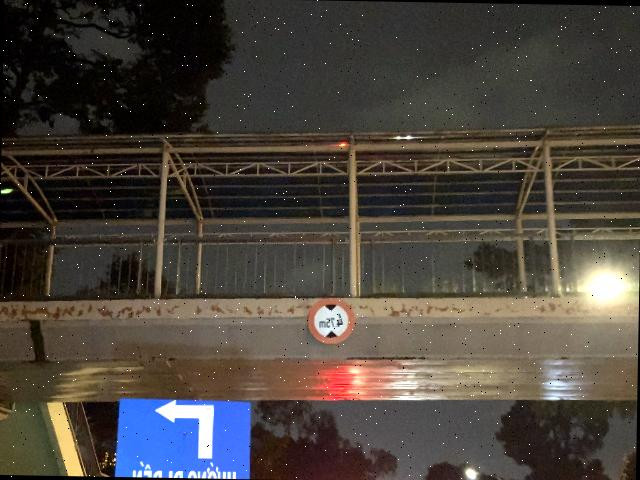han-che-chieu-cao: (306, 296, 356, 344)
